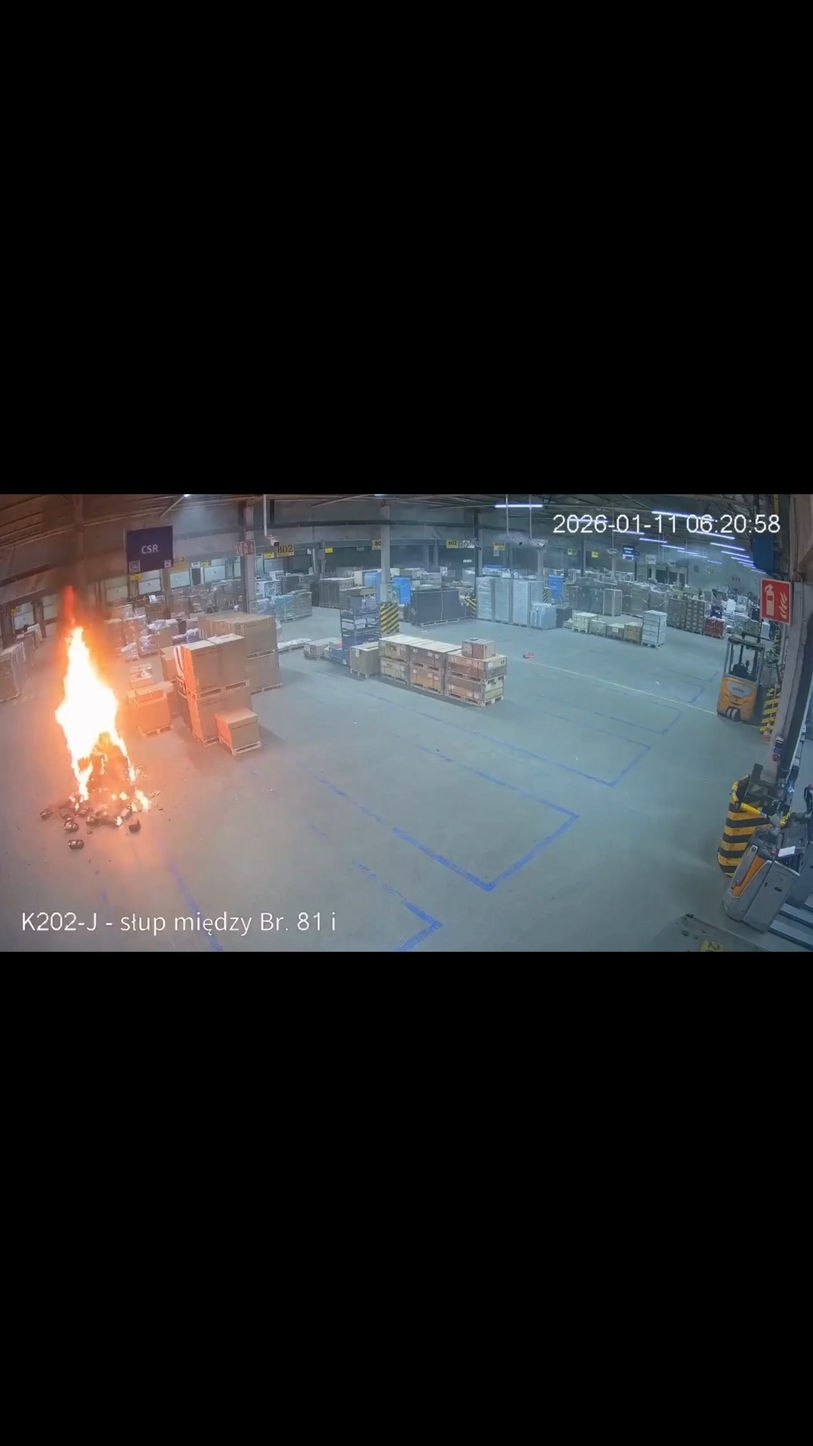fire: (55, 590, 151, 820)
smoke: (31, 497, 146, 634)
